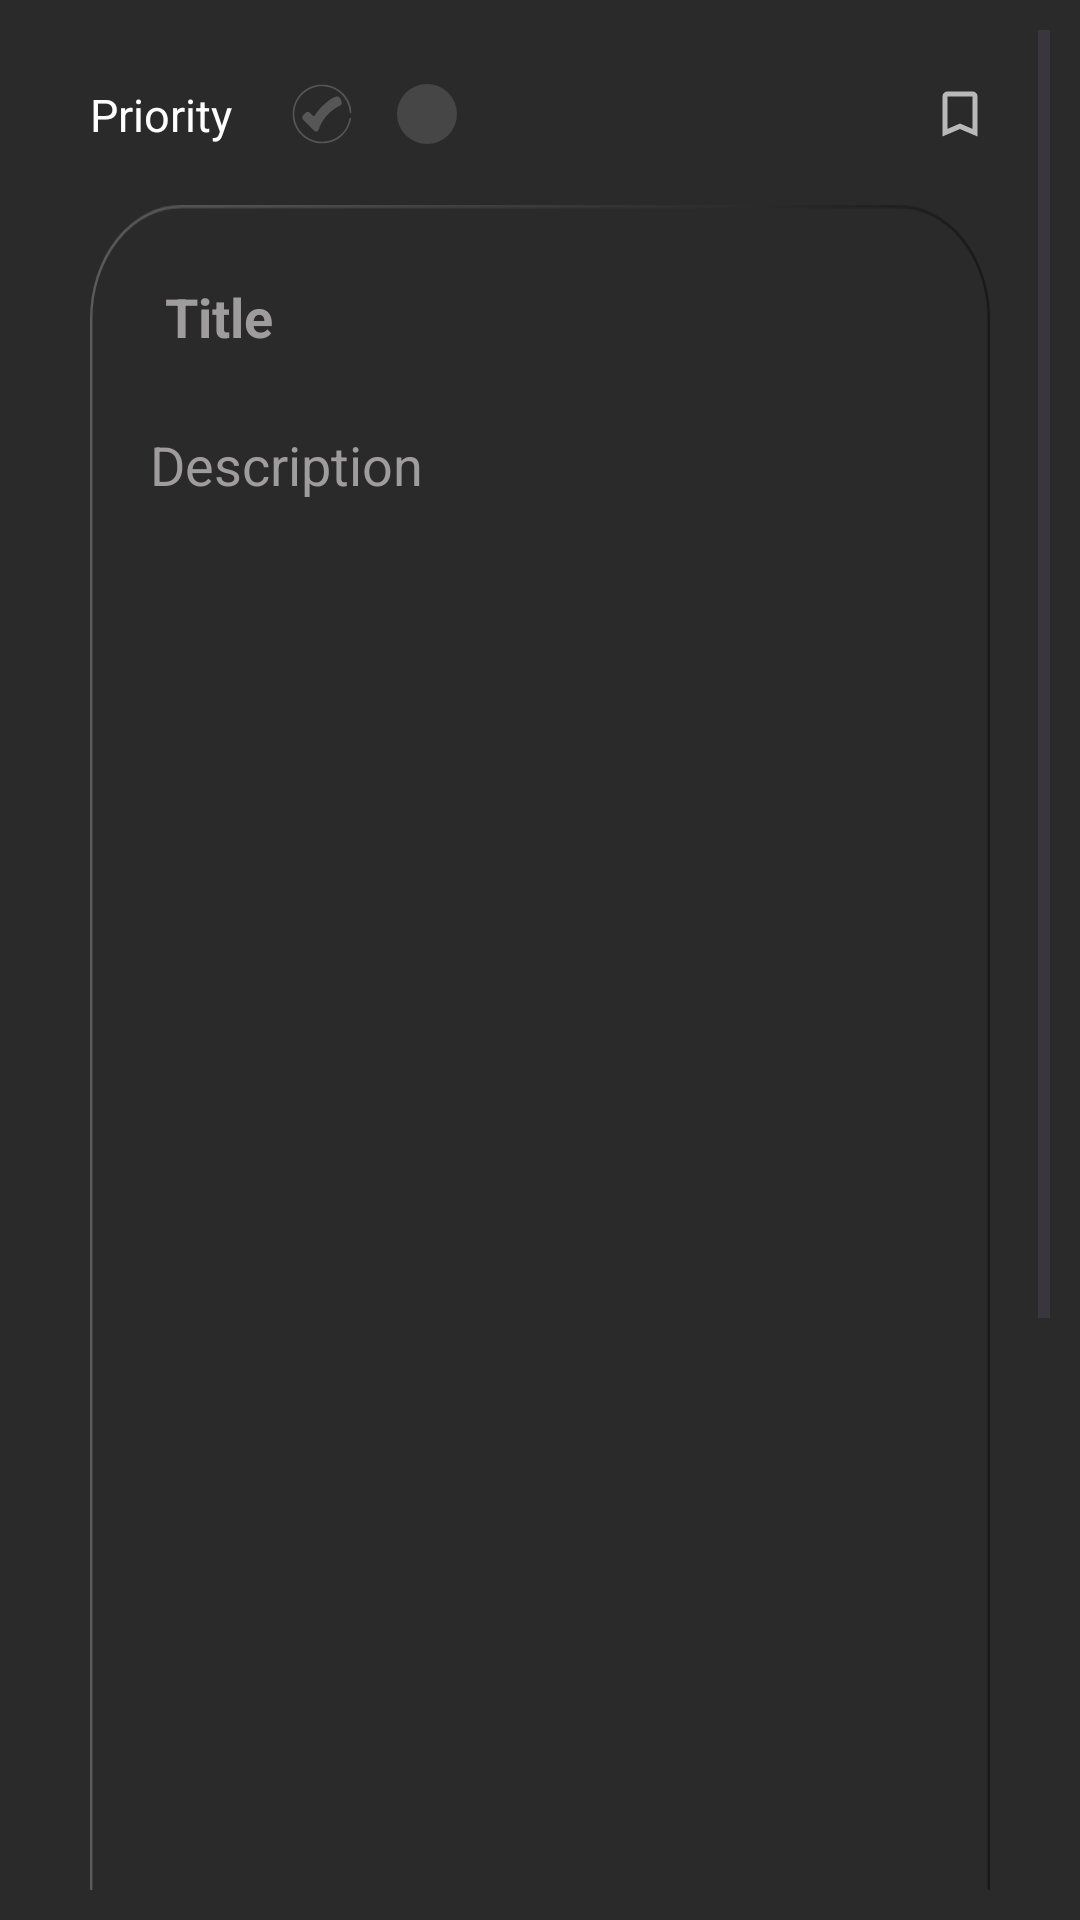

Icon click points for this 1080px x 1920px phone screenshot, format point (x, y):
save: point (960, 114)
tick: point (322, 114)
